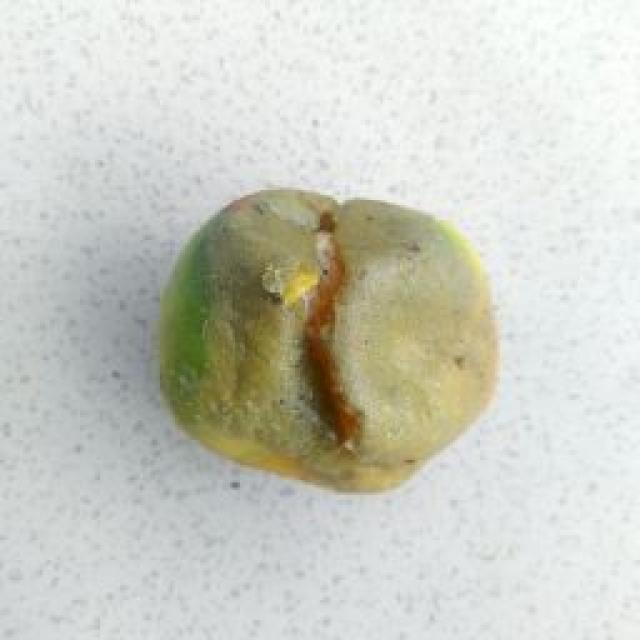Bad_Orange: (162, 189, 498, 491)
